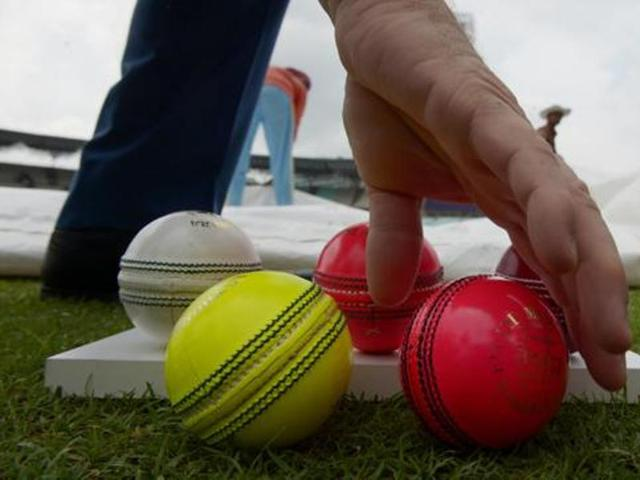red ball: (397, 271, 572, 446), (313, 221, 450, 351)
